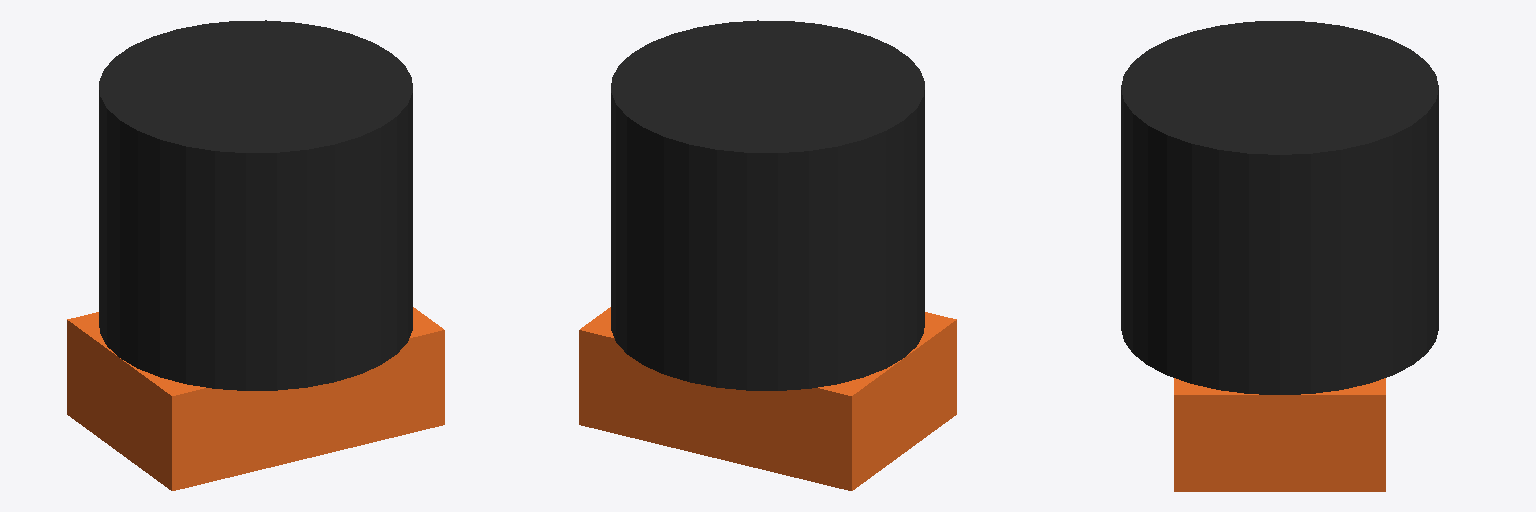
robot.urdf — mini:
<!--
  Copyright 2016 The Cartographer Authors
  Licensed under the Apache License, Version 2.0 (the "License");
  you may not use this file except in compliance with the License.
  You may obtain a copy of the License at
       http://www.apache.org/licenses/LICENSE-2.0
  Unless required by applicable law or agreed to in writing, software
  distributed under the License is distributed on an "AS IS" BASIS,
  WITHOUT WARRANTIES OR CONDITIONS OF ANY KIND, either express or implied.
  See the License for the specific language governing permissions and
  limitations under the License.
-->
<robot name="mini">
  <material name="orange">
    <color rgba="1.0 0.5 0.2 1" />
  </material>
  <material name="gray">
    <color rgba="0.2 0.2 0.2 1" />
  </material>
 
  <link name="gyro_link">#与imu的fram_id对应
    <visual>
      <origin xyz="0 0 0" />
      <geometry>
        <box size="0.06 0.04 0.02" />
      </geometry>
      <material name="orange" />
    </visual>
  </link>
  <link name="laser">#与雷达的fram_id对应
    <visual>
      <origin xyz="0 0 0" />
      <geometry>
        <cylinder length="0.05" radius="0.03" />
      </geometry>
      <material name="gray" />
    </visual>
  </link>
 
 
  <joint name="imu2laser" type="fixed">
    <parent link="laser" />
    <child link="gyro_link" />
    <origin xyz="0 0 -0.035" />
  </joint>
 
</robot>

--- Render facts (derived) ---
The picture shows the robot from 3 angles, left to right: view 1: azimuth 30°, elevation 25°; view 2: azimuth 150°, elevation 25°; view 3: azimuth 270°, elevation 25°; orthographic projection.
Model mini with 2 links and 1 joints (1 fixed), rooted at laser, posed all joints at 0.
Links seen in each view (by area): view 1: laser, gyro_link; view 2: laser, gyro_link; view 3: laser, gyro_link.
Boxes of the visible links, left/top/right/bottom form: laser: left=99, top=20, right=412, bottom=390; gyro_link: left=67, top=307, right=444, bottom=490; laser: left=611, top=20, right=924, bottom=390; gyro_link: left=579, top=307, right=956, bottom=490; laser: left=1121, top=21, right=1438, bottom=394; gyro_link: left=1174, top=378, right=1385, bottom=491.
Bounding box of the posed robot: 0.06 × 0.06 × 0.07 m (x, y, z).
Geometry: primitives only (box / cylinder / sphere), no mesh files.
